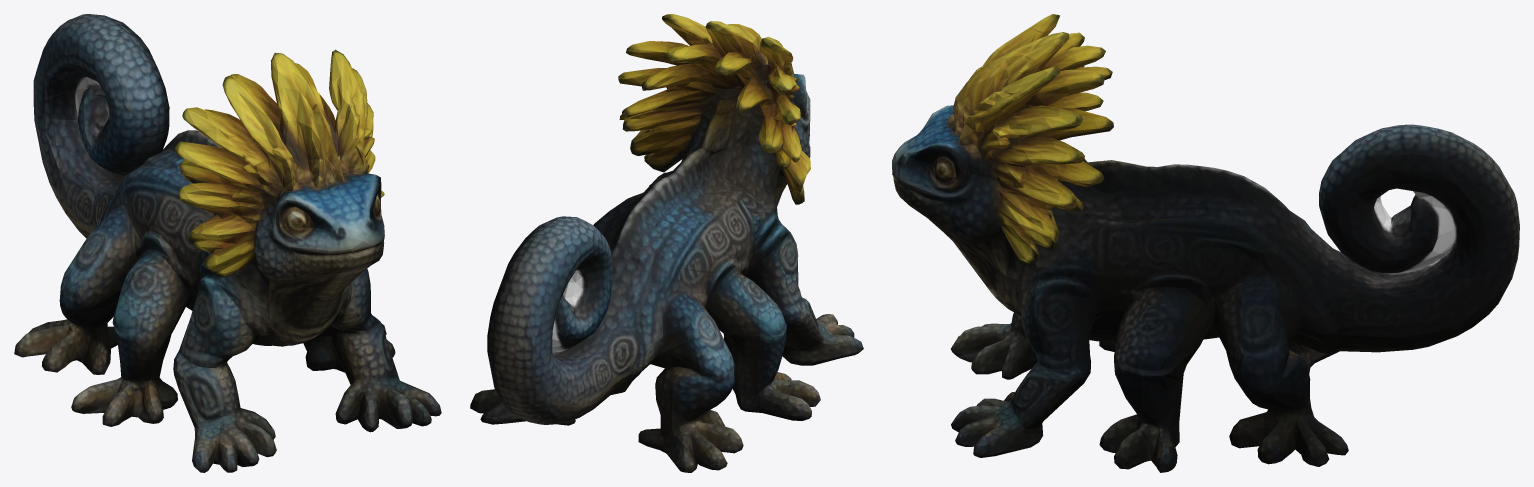
Rendered from volthorn.glb.
The picture shows the model from 3 angles, left to right: view 1: azimuth 30°, elevation 25°; view 2: azimuth 150°, elevation 25°; view 3: azimuth 270°, elevation 25°; orthographic projection. The views are drawn at different scales.
Parts seen in each view (by area): view 1: world; view 2: world; view 3: world.
Boxes of the visible parts, x1,y1,x2,y2 form: world: (14,14,441,472); world: (470,14,863,472); world: (892,14,1519,472).
Size of the model in its own units: 0.5859 by 0.6468 by 0.9992.
1 material, 1 textured.
